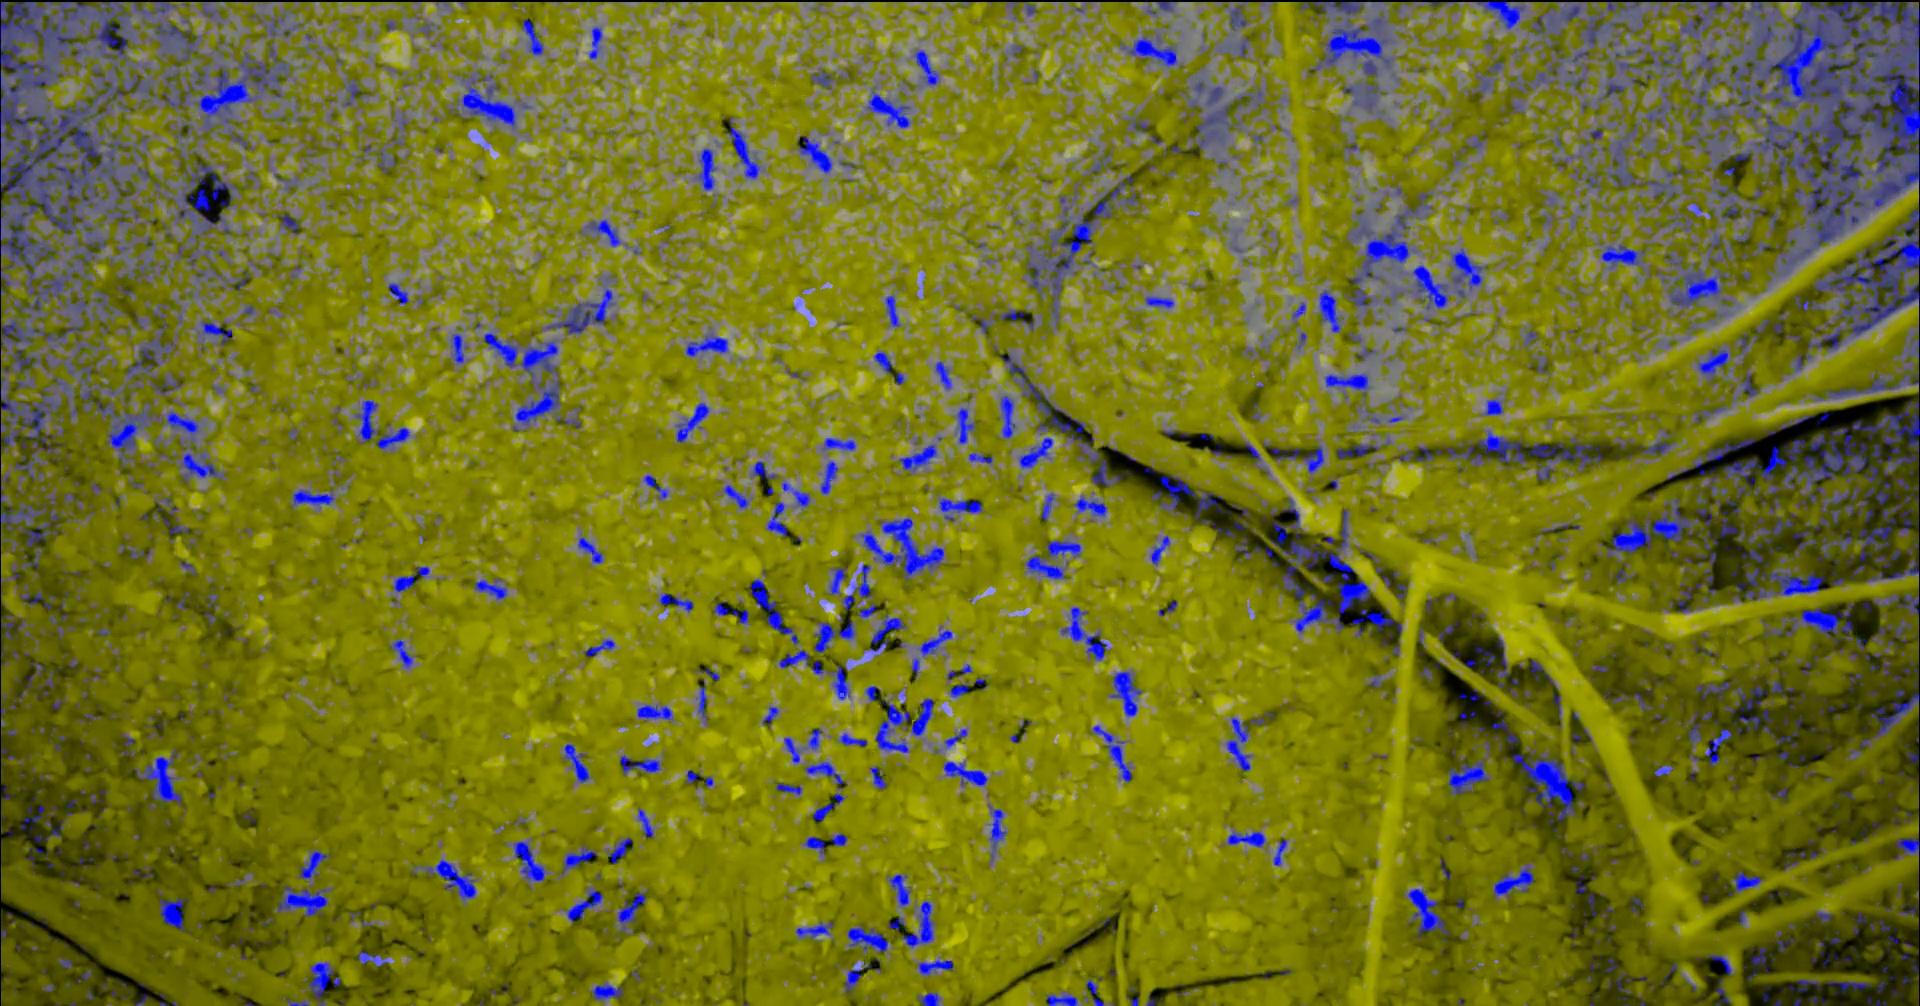ant: (1846, 692, 1919, 757), (1158, 469, 1230, 526), (1666, 438, 1754, 479), (1873, 587, 1919, 658), (749, 578, 797, 645), (410, 859, 475, 901), (803, 760, 847, 821), (354, 399, 409, 448), (1060, 606, 1107, 661), (1403, 888, 1449, 941), (9, 661, 58, 709), (1091, 725, 1131, 782), (1448, 741, 1490, 795), (1677, 0, 1733, 41), (1025, 539, 1081, 579), (725, 117, 759, 179), (203, 248, 250, 291), (1864, 617, 1911, 661), (1119, 34, 1177, 67), (1732, 185, 1765, 243), (865, 86, 910, 127), (1450, 246, 1486, 298), (1606, 0, 1661, 33), (273, 885, 331, 916), (1408, 264, 1448, 309), (1491, 862, 1534, 901), (867, 614, 905, 655), (303, 962, 339, 1005), (1109, 671, 1142, 716), (512, 840, 545, 885), (810, 661, 850, 699), (841, 563, 872, 610), (902, 901, 933, 948), (1736, 319, 1769, 363), (1359, 549, 1397, 587), (1476, 0, 1525, 29), (1712, 177, 1742, 224), (1476, 634, 1509, 677), (1351, 608, 1401, 636), (565, 887, 603, 922), (116, 259, 171, 283), (676, 401, 709, 442), (813, 620, 855, 652), (1225, 716, 1250, 771), (1697, 347, 1731, 385), (157, 888, 188, 930), (617, 890, 646, 934), (1470, 60, 1503, 98), (797, 135, 830, 173), (847, 925, 891, 953), (1865, 558, 1919, 580), (1679, 709, 1710, 747), (1600, 243, 1647, 268), (157, 497, 189, 533), (844, 962, 881, 993), (0, 667, 17, 735), (1603, 688, 1652, 711), (942, 761, 987, 786), (987, 803, 1006, 861), (1324, 373, 1370, 398), (1705, 227, 1733, 267), (563, 743, 590, 782), (560, 843, 596, 874), (1318, 290, 1343, 332), (898, 443, 936, 471), (298, 848, 330, 882), (938, 497, 982, 521), (197, 320, 232, 349), (1704, 728, 1731, 766), (1018, 437, 1051, 467), (1771, 713, 1802, 746), (0, 610, 34, 639), (684, 333, 728, 356), (585, 218, 620, 246), (917, 627, 951, 655), (1636, 431, 1675, 455), (913, 48, 938, 85), (1727, 870, 1763, 895), (392, 567, 429, 591), (1191, 77, 1223, 105), (291, 486, 334, 507), (618, 754, 662, 775), (696, 149, 716, 191), (1491, 718, 1517, 749), (521, 18, 543, 55), (998, 309, 1034, 332), (48, 614, 74, 645), (1605, 51, 1644, 71), (472, 577, 507, 600), (888, 873, 910, 907), (342, 77, 370, 105), (781, 481, 809, 509), (389, 639, 417, 667), (766, 500, 787, 536), (577, 533, 602, 563), (33, 818, 65, 841), (658, 592, 693, 612), (712, 602, 748, 622), (1073, 494, 1106, 516), (606, 836, 632, 862), (20, 805, 44, 835), (956, 406, 975, 443), (1225, 829, 1265, 847), (93, 290, 119, 315), (450, 326, 467, 365), (1336, 443, 1380, 459), (1893, 833, 1919, 860), (795, 921, 833, 939), (1608, 559, 1636, 583), (999, 395, 1015, 438), (1542, 523, 1578, 541), (636, 704, 673, 721), (1597, 77, 1625, 100), (1302, 445, 1324, 473), (1694, 681, 1730, 699), (1646, 103, 1675, 124), (1229, 0, 1250, 30), (643, 474, 667, 499), (1895, 478, 1919, 503), (723, 484, 748, 508), (1615, 970, 1633, 1005), (1150, 533, 1170, 565), (1771, 930, 1799, 951), (917, 959, 952, 976), (590, 982, 623, 1000), (1459, 131, 1484, 154), (1705, 953, 1731, 976), (15, 583, 42, 605), (270, 213, 298, 234), (820, 460, 837, 494), (583, 638, 615, 655), (201, 0, 223, 24), (970, 312, 996, 334), (1897, 890, 1919, 916), (1827, 981, 1870, 993), (1694, 405, 1727, 422), (778, 649, 809, 667), (1083, 978, 1103, 1005), (1775, 415, 1813, 429), (828, 567, 847, 594), (884, 295, 900, 326), (357, 950, 387, 967), (695, 681, 707, 720), (943, 728, 968, 748), (750, 460, 776, 479), (1820, 951, 1851, 967), (935, 359, 951, 389), (1740, 370, 1757, 396), (1873, 549, 1900, 567), (387, 282, 409, 304), (810, 69, 833, 89), (1793, 295, 1823, 310), (1437, 619, 1458, 641), (637, 807, 653, 837), (1784, 847, 1804, 870), (1751, 948, 1771, 970), (588, 25, 602, 58), (1741, 243, 1769, 259), (1666, 211, 1691, 229), (1691, 639, 1718, 655), (872, 351, 891, 373), (869, 765, 888, 788), (377, 149, 395, 173), (1583, 171, 1601, 196), (1234, 535, 1252, 559), (1145, 0, 1176, 14), (822, 437, 855, 450), (0, 645, 33, 658), (946, 663, 971, 680), (783, 737, 800, 762), (1788, 978, 1821, 991), (173, 117, 192, 138), (1869, 655, 1891, 674), (803, 836, 824, 855), (1090, 154, 1112, 171), (91, 311, 109, 334), (1269, 447, 1300, 460), (804, 728, 822, 749), (1272, 838, 1286, 865), (1144, 295, 1173, 307), (837, 733, 866, 746), (1566, 70, 1585, 89), (1045, 993, 1077, 1005), (1716, 979, 1730, 1005), (119, 733, 135, 756), (63, 492, 83, 509), (1040, 493, 1053, 520), (775, 782, 801, 795), (916, 991, 940, 1005), (1128, 116, 1148, 132), (762, 706, 778, 727), (1244, 442, 1260, 464), (203, 587, 218, 608), (1529, 658, 1544, 680), (949, 682, 970, 697), (1832, 648, 1858, 661), (1484, 399, 1503, 415), (856, 601, 875, 617), (89, 789, 109, 804), (1458, 688, 1482, 701), (1416, 446, 1434, 462), (1902, 655, 1919, 673), (1552, 694, 1561, 727), (1459, 710, 1476, 728), (27, 847, 42, 866), (1869, 920, 1895, 931), (1291, 302, 1305, 323), (1849, 671, 1863, 691), (968, 452, 992, 464), (695, 668, 719, 680), (1237, 36, 1250, 57), (1773, 311, 1785, 333), (283, 995, 310, 1005), (1157, 601, 1176, 615), (1120, 191, 1138, 205), (179, 561, 197, 575), (175, 591, 189, 608), (829, 832, 847, 846), (1629, 895, 1643, 913), (128, 547, 150, 559), (1396, 583, 1407, 605), (130, 166, 149, 179), (1356, 347, 1375, 359), (1653, 763, 1672, 776), (1426, 0, 1457, 8), (76, 713, 99, 723), (132, 865, 152, 876), (684, 768, 701, 782), (1771, 788, 1785, 804), (888, 915, 904, 929), (1815, 911, 1832, 923), (1023, 0, 1037, 15), (1797, 659, 1811, 674), (1418, 666, 1432, 681), (1534, 357, 1547, 373), (1575, 875, 1586, 893), (420, 22, 434, 36), (1233, 514, 1247, 528), (1524, 330, 1537, 345), (1398, 448, 1413, 461), (1368, 674, 1383, 687), (1509, 677, 1517, 697), (1589, 126, 1603, 138), (1905, 751, 1919, 763), (56, 956, 71, 968), (910, 657, 919, 676)
